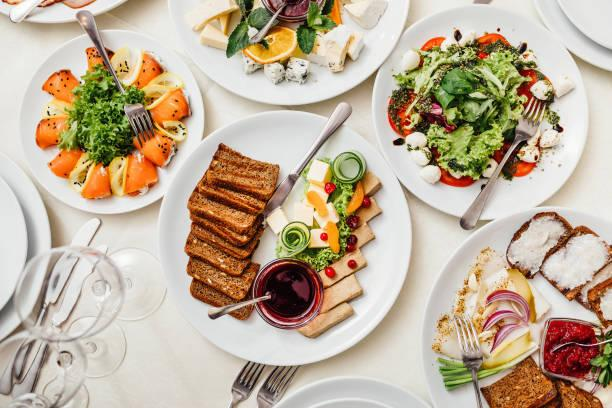Braised Crucian Carp: (157, 110, 406, 365), (373, 4, 584, 222), (419, 208, 611, 408), (18, 29, 204, 215), (171, 0, 414, 107)
